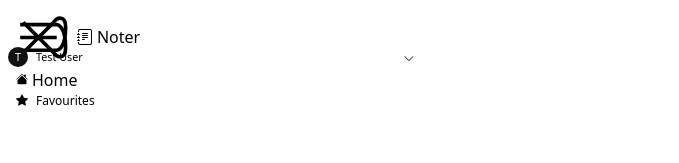
Test: LeftSideBar component › toggles user menu dropdown
Click the icon named "user menu toggle": {"x": 397, "y": 58} [380,50,414,65]
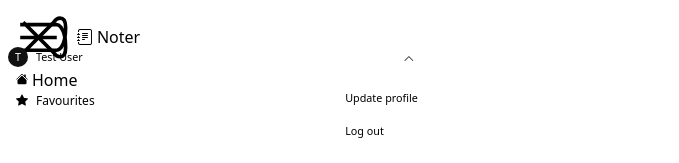
expect the button "Update profile" is shown: met, box [337,82,662,114]
expect the button "Log out" is shown: met, box [337,114,662,147]
